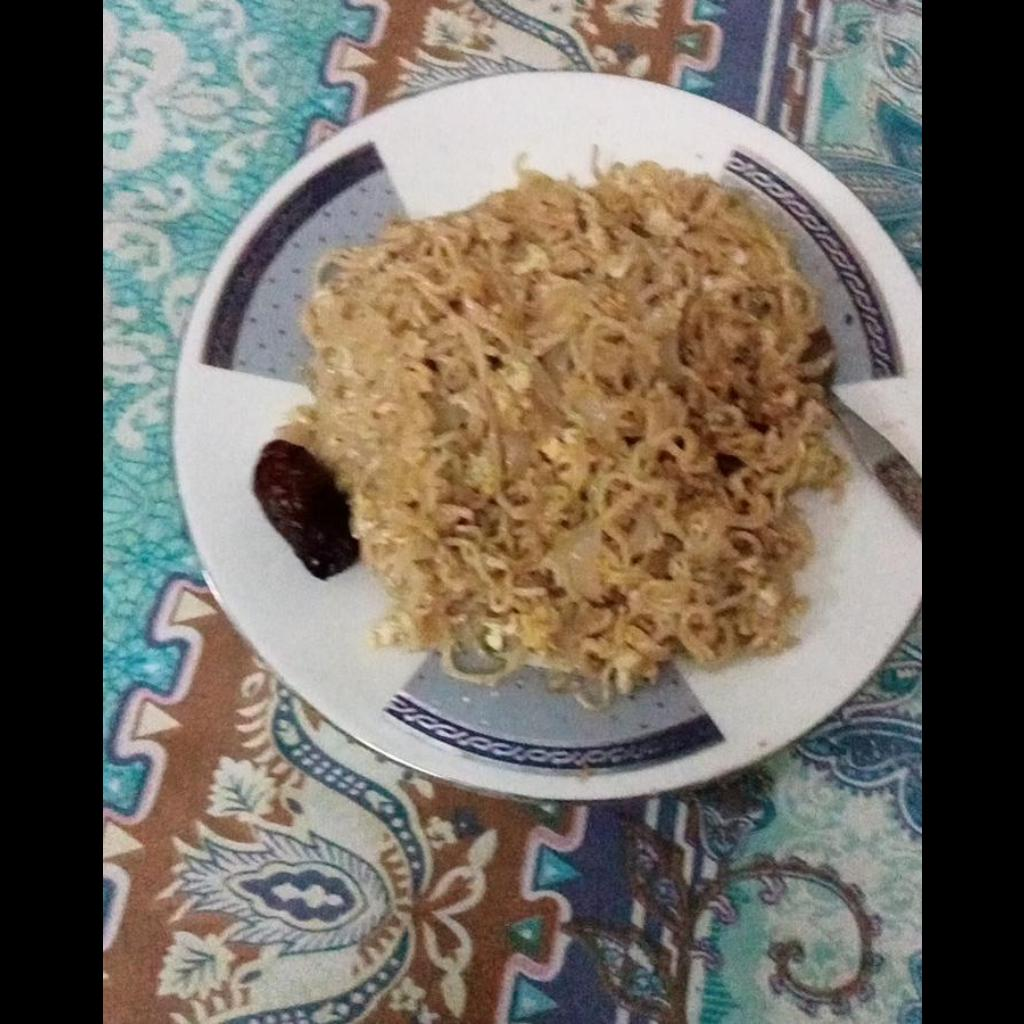dates: (250, 440, 360, 578)
noodles: (274, 147, 846, 698)
